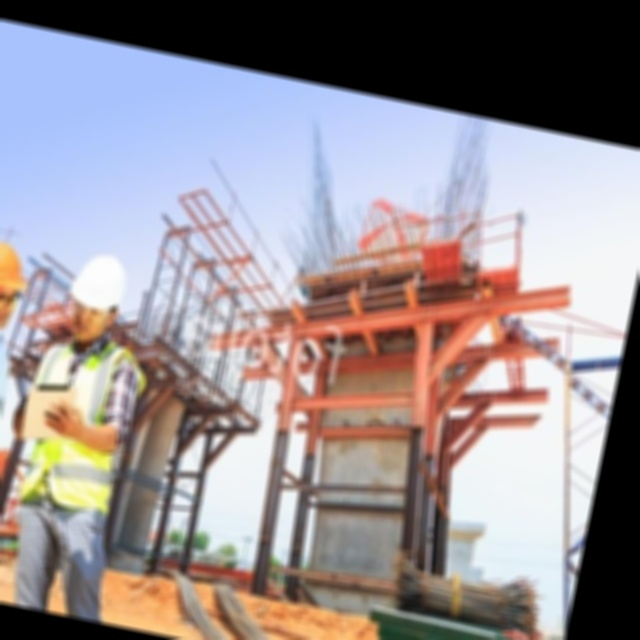Con_Chaleco: (11, 332, 136, 516)
Sin_Chaleco: (0, 315, 18, 494)
